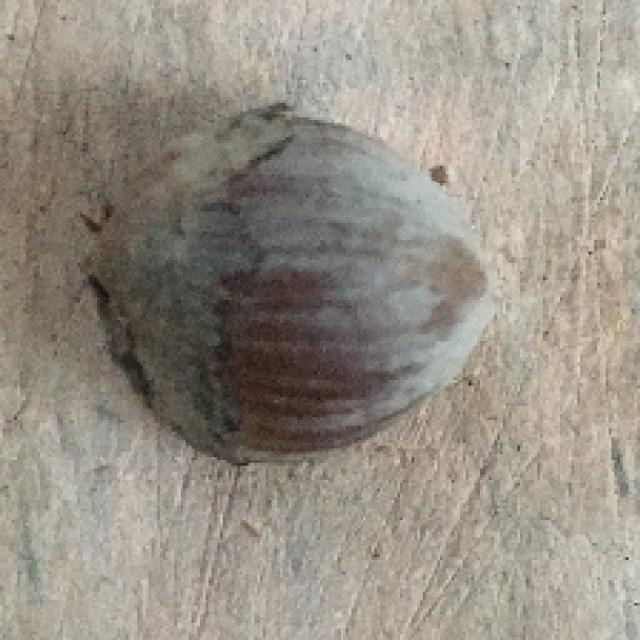damagedHazelnut: (83, 102, 516, 470)
